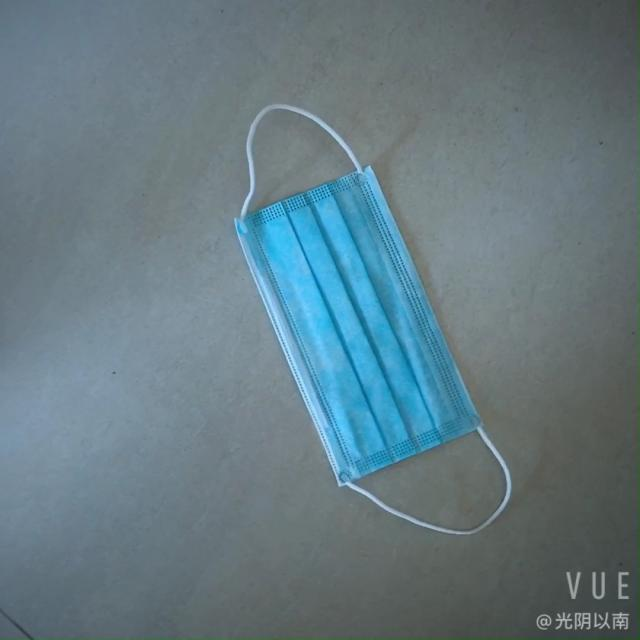non-organic waste: (234, 161, 476, 488)
